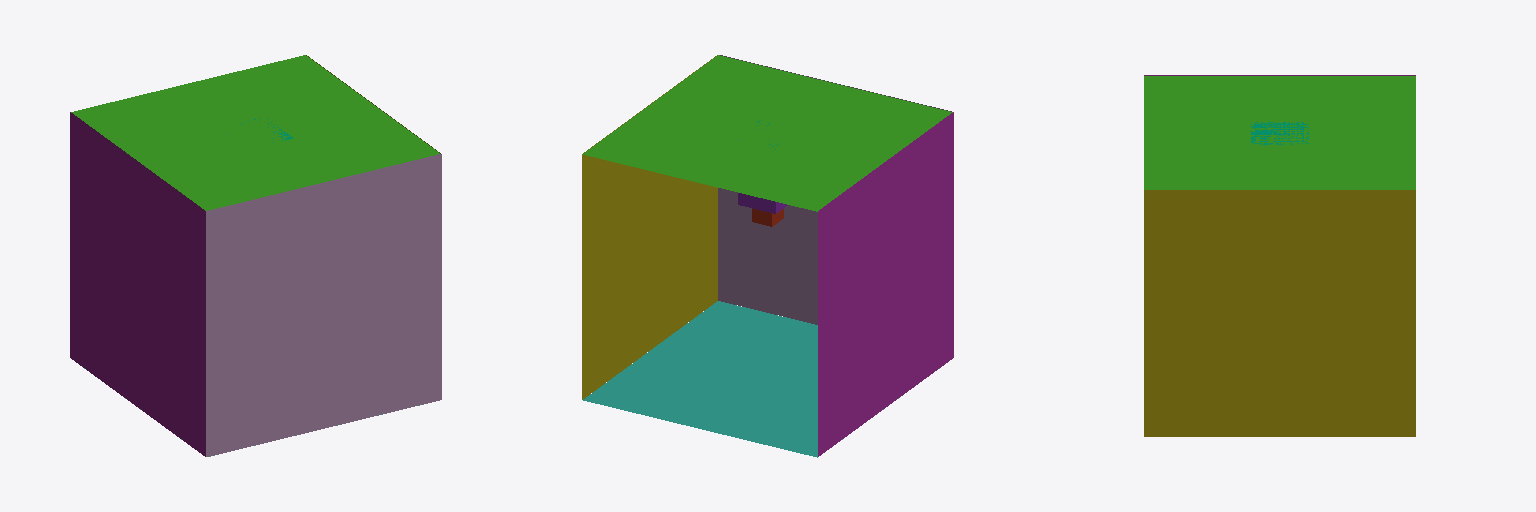
File: room.obj
The picture shows the model from 3 angles: view 1: azimuth 30°, elevation 25°; view 2: azimuth 150°, elevation 25°; view 3: azimuth 270°, elevation 25°; orthographic projection.
Size of the model in its own units: 3.56 by 3.56 by 3.57.